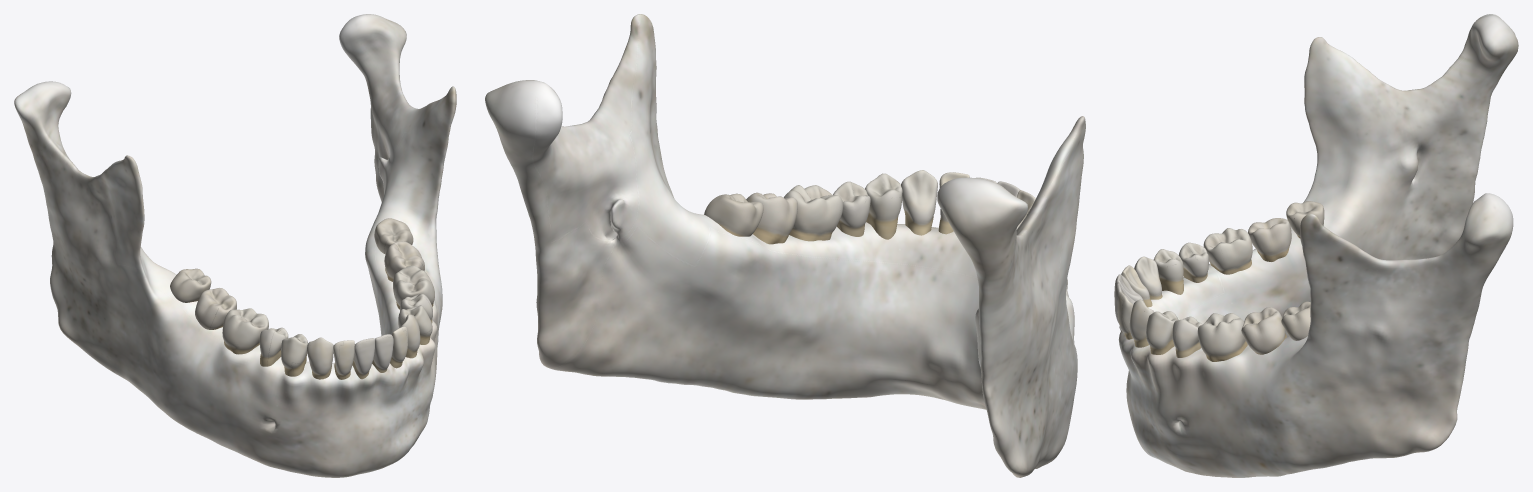
The model's file is mandible.glb.
The picture shows the model from 3 angles, left to right: view 1: azimuth 30°, elevation 25°; view 2: azimuth 150°, elevation 25°; view 3: azimuth 270°, elevation 25°; orthographic projection. The views are drawn at different scales.
Parts seen in each view (by area): view 1: Object_2, Object_16, Object_19, Object_17, Object_4, Object_18, Object_6, Object_3, Object_13, Object_15, Object_10, Object_8 (+4 smaller); view 2: Object_2, Object_17, Object_12, Object_5, Object_3, Object_18, Object_14; view 3: Object_2, Object_17, Object_16, Object_18, Object_19, Object_5, Object_6, Object_15, Object_14, Object_3, Object_13, Object_12 (+3 smaller).
Boxes of the visible parts, x1,y1,x2,y2 form: Object_2: (14, 14, 456, 477); Object_16: (222, 308, 268, 354); Object_19: (195, 288, 236, 329); Object_17: (393, 265, 434, 309); Object_4: (170, 268, 211, 302); Object_18: (384, 241, 424, 281); Object_6: (281, 334, 307, 376); Object_3: (374, 218, 413, 254); Object_13: (307, 337, 333, 379); Object_15: (259, 327, 288, 366); Object_10: (333, 340, 354, 379); Object_8: (352, 338, 374, 379); Object_2: (485, 14, 1085, 477); Object_17: (783, 185, 843, 241); Object_12: (901, 170, 937, 235); Object_5: (865, 173, 902, 239); Object_3: (704, 193, 763, 236); Object_18: (746, 192, 797, 244); Object_14: (833, 181, 870, 236); Object_2: (1118, 14, 1518, 477); Object_17: (1197, 313, 1247, 361); Object_16: (1203, 228, 1252, 274); Object_18: (1241, 307, 1286, 354); Object_19: (1248, 218, 1291, 261); Object_5: (1146, 311, 1178, 354); Object_6: (1153, 249, 1183, 294); Object_15: (1178, 242, 1208, 282); Object_14: (1172, 316, 1202, 357); Object_3: (1281, 301, 1310, 340); Object_13: (1134, 256, 1162, 299); Object_12: (1129, 299, 1153, 347).
Bounding box in the file's own units: 10.74 × 8.31 × 9.
9 materials, 9 textured.
